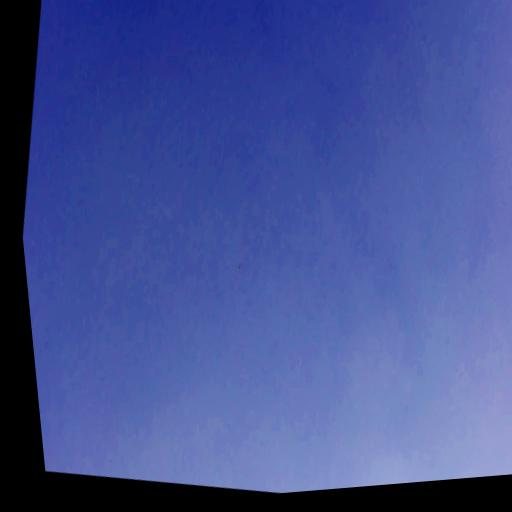drones: (235, 261, 244, 274)
